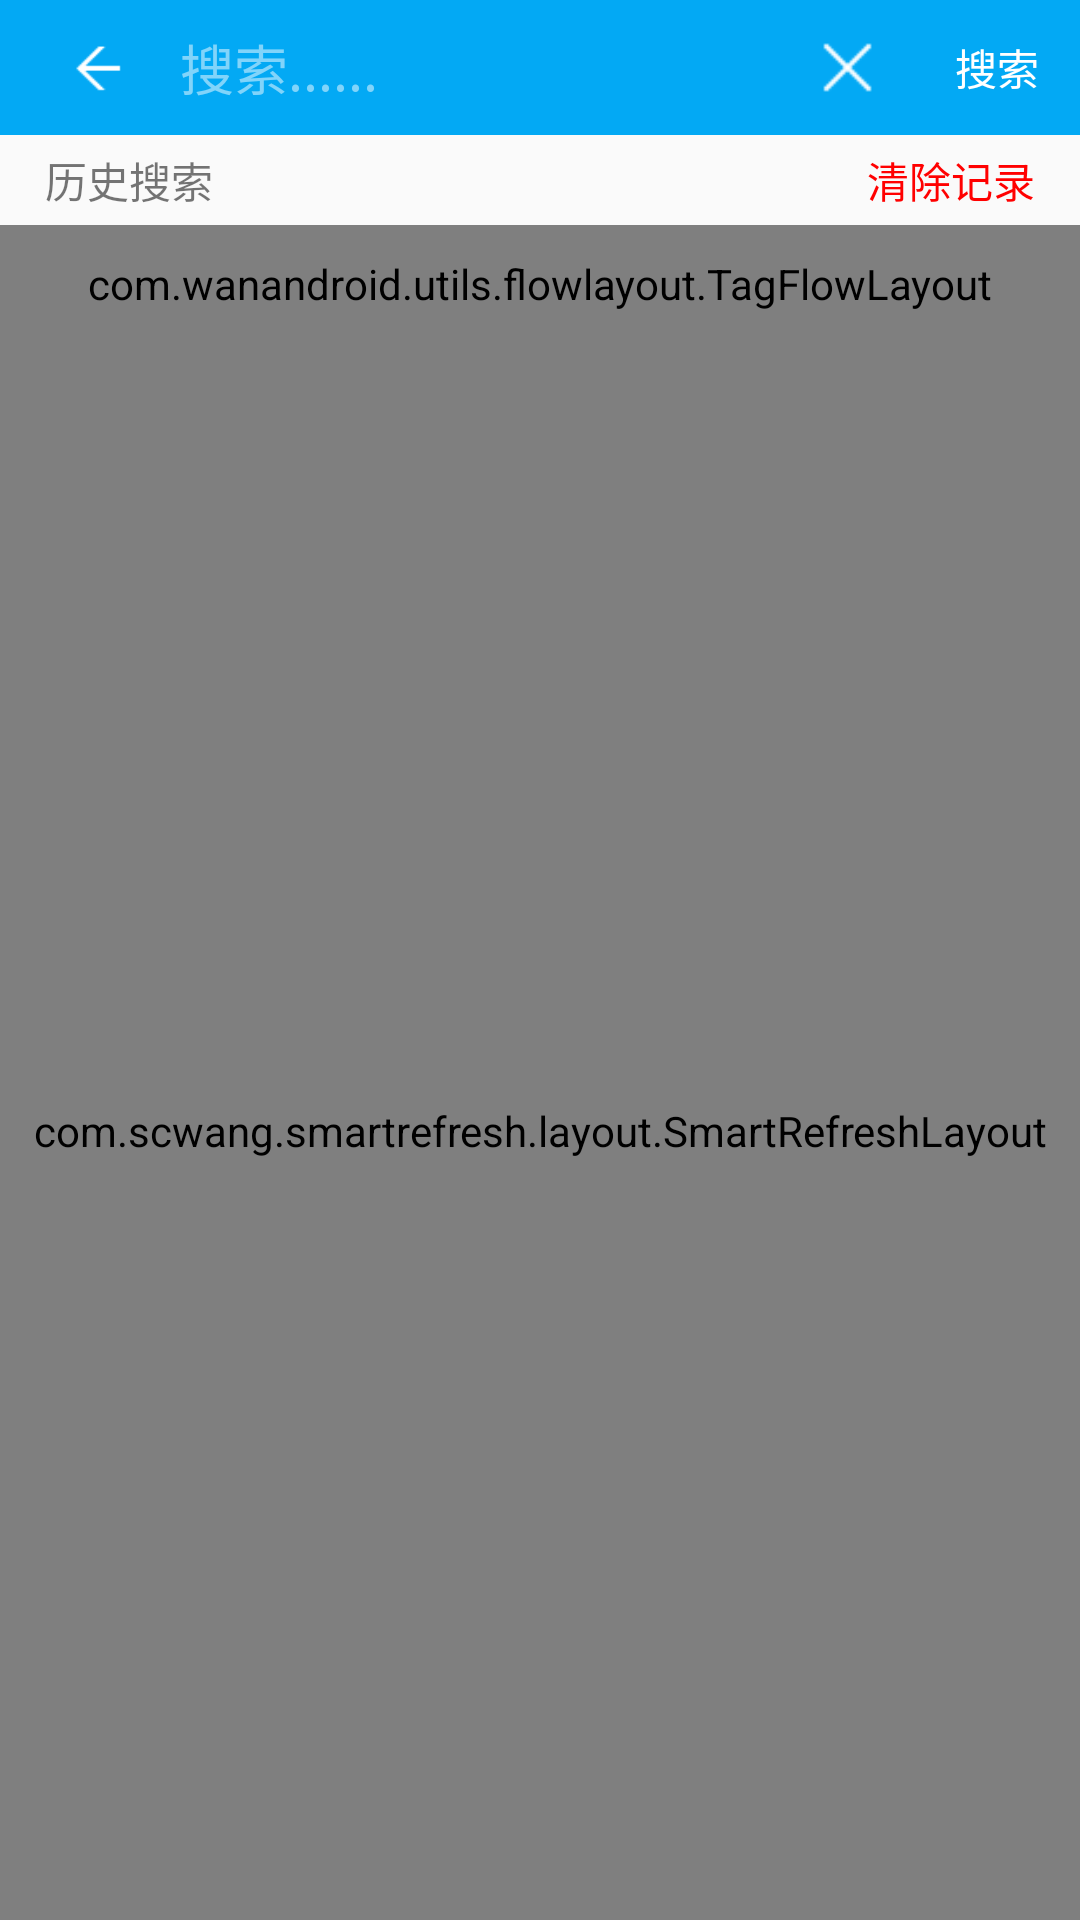

Icon bounding boxes for this 1080x1920 phone screenshot, format (x1, y1, x2, y2):
back: (76, 46, 121, 91)
close: (823, 43, 872, 92)
